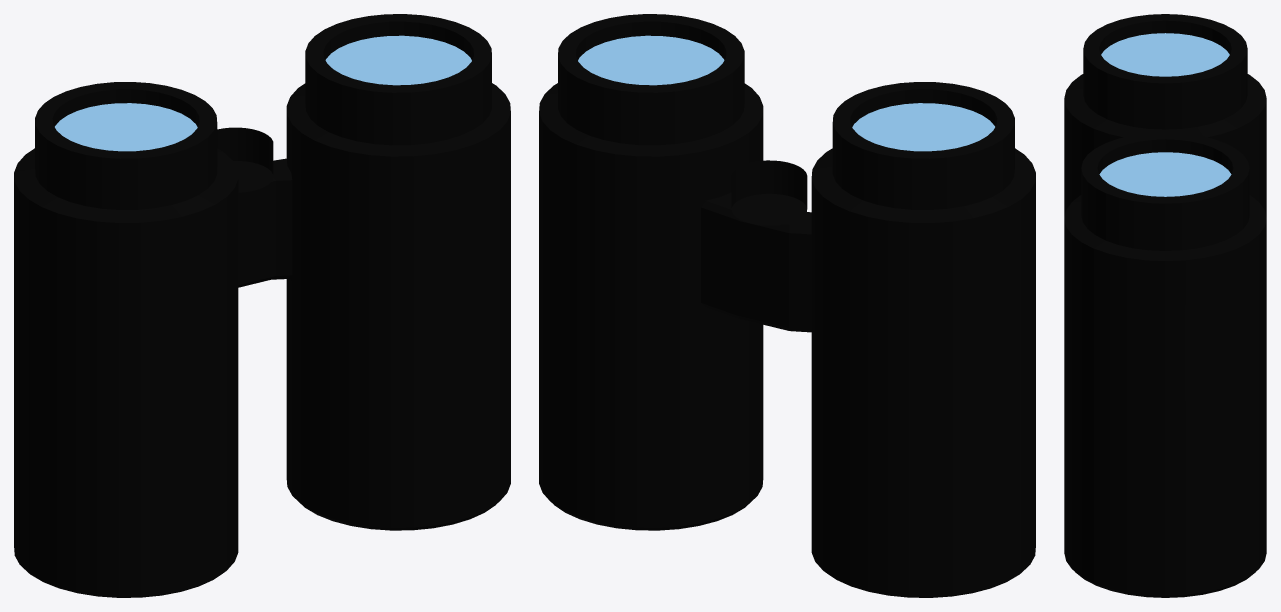
The model's file is Fernglas.fbx.
3 views of the same model, side by side, from view 1: azimuth 30°, elevation 25°; view 2: azimuth 150°, elevation 25°; view 3: azimuth 270°, elevation 25° (orthographic). The views are drawn at different scales.
Visible parts, largest first — view 1: Cylinder; view 2: Cylinder; view 3: Cylinder.
Part boxes in pixels (bbox=[...]): Cylinder: bbox=[14, 14, 510, 597]; Cylinder: bbox=[539, 14, 1035, 597]; Cylinder: bbox=[1064, 14, 1266, 597].
Bounding box in the file's own units: 550 × 486 × 229.
